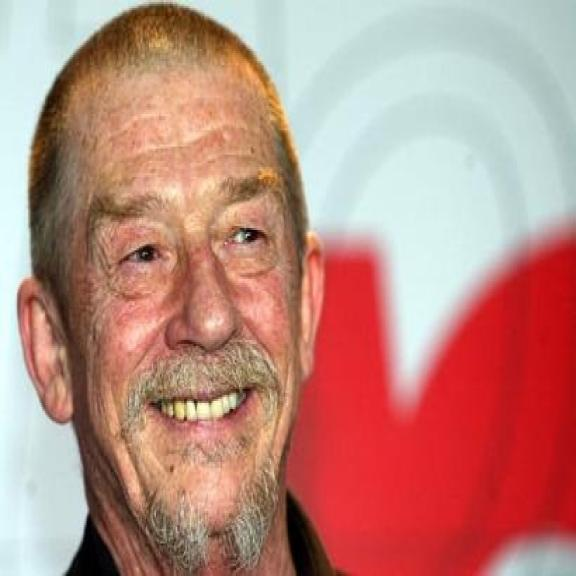face: (14, 61, 324, 544)
